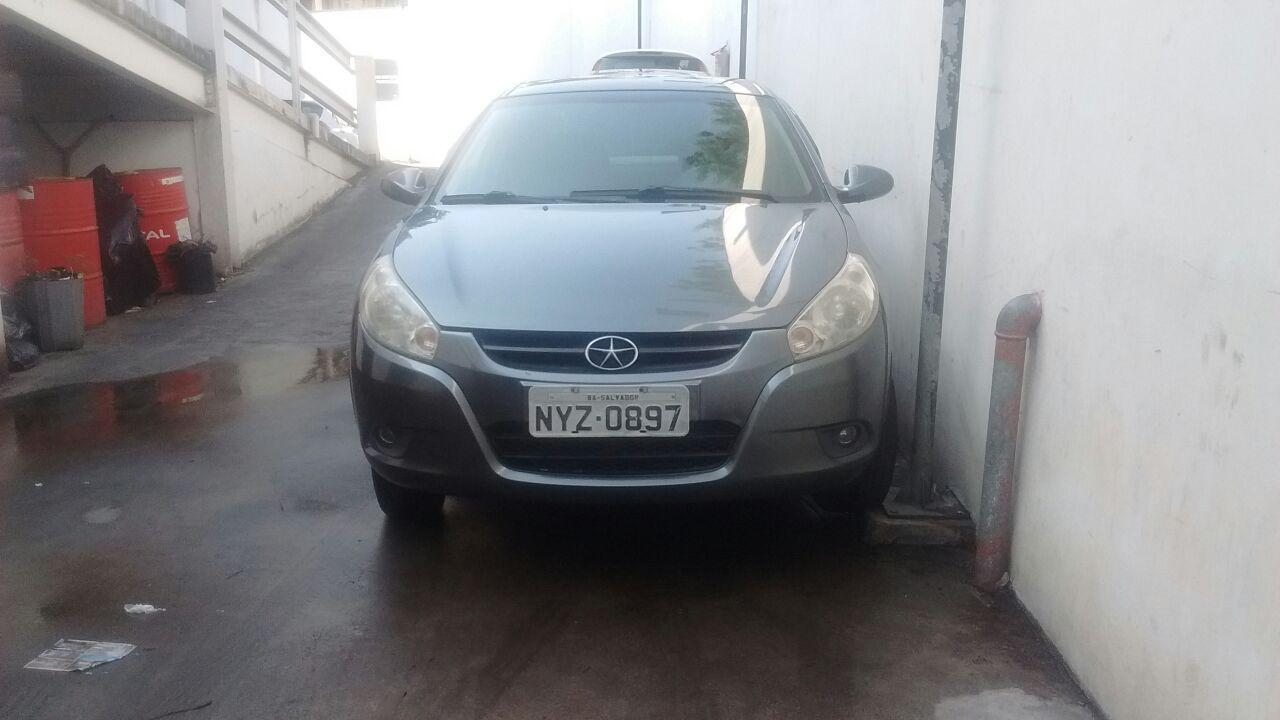placa de veiculo: (516, 373, 699, 451)
